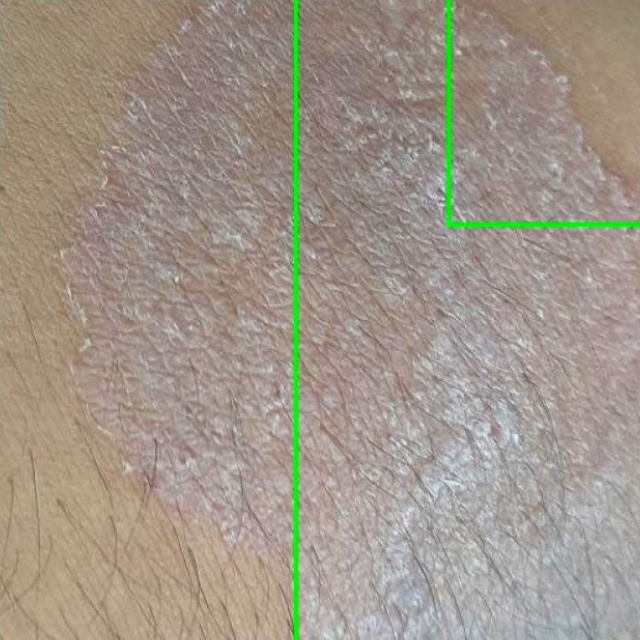Tinea Corporis: (0, 0, 295, 639), (448, 0, 639, 224)
